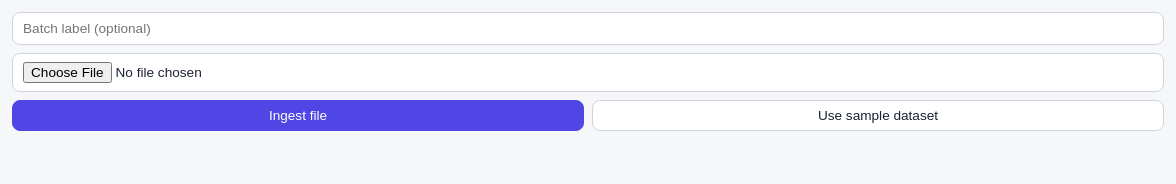
Test case: UploadPanel › on a failed ingestion, shows the error AND surfaces the failed batch for refresh
Click the button "Use sample dataset".
click(878, 116)  # box [592,100,1164,131]
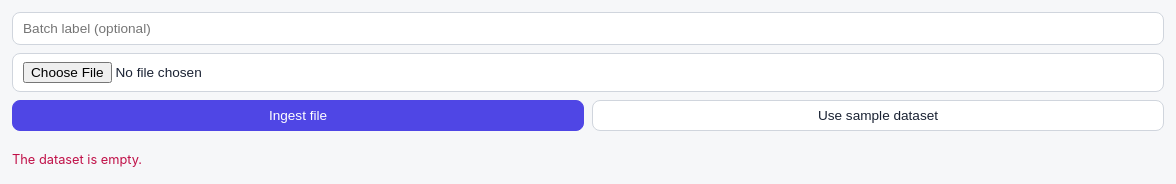
Now the text "The dataset is empty." is shown, box [12,152,142,167]
